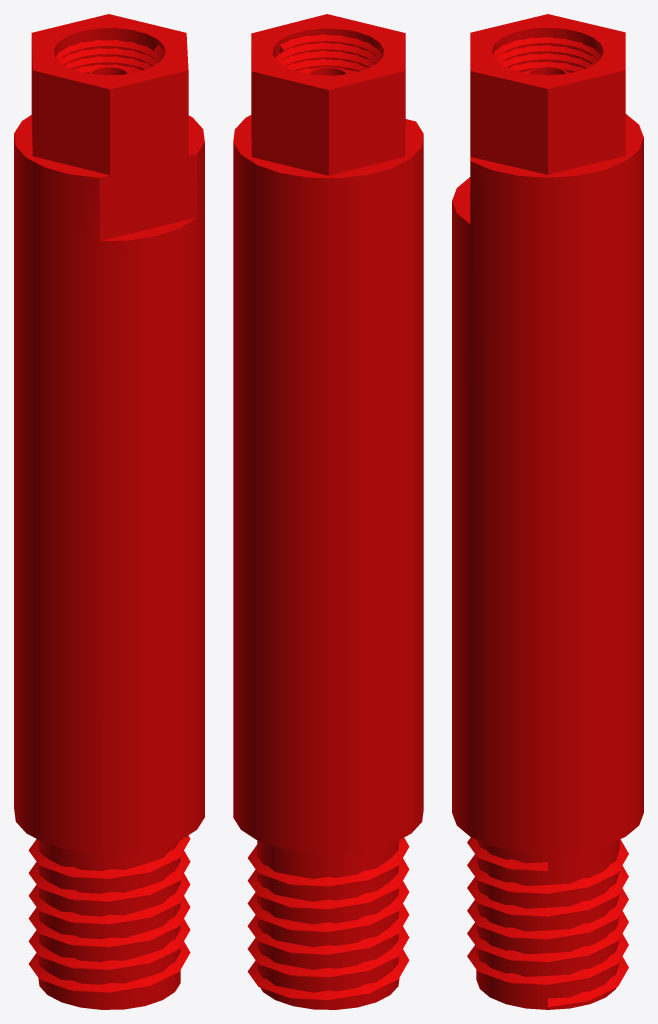
Rendered from seguranca-obj_encaixe.fbx.
3 views of the same model, side by side, from view 1: azimuth 30°, elevation 25°; view 2: azimuth 150°, elevation 25°; view 3: azimuth 270°, elevation 25° (orthographic).
Visible parts, largest first — view 1: Metade_Cima, Metade_Baixo; view 2: Metade_Cima, Metade_Baixo; view 3: Metade_Cima, Metade_Baixo.
Boxes of the visible parts, x1,y1,x2,y2 form: Metade_Cima: (14, 14, 204, 547); Metade_Baixo: (14, 503, 204, 1009); Metade_Cima: (233, 14, 423, 547); Metade_Baixo: (233, 505, 423, 1009); Metade_Cima: (452, 14, 643, 547); Metade_Baixo: (452, 507, 643, 1009).
Size of the model in its own units: 0.8969 by 4.8 by 0.8969.
